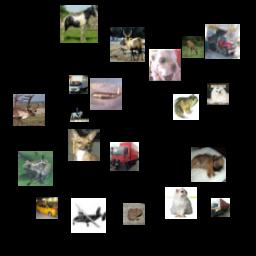airplane: (71, 198, 106, 233), (90, 78, 122, 110)
automobile: (36, 197, 58, 219)
cat: (165, 187, 197, 219)
deer: (110, 27, 145, 62), (13, 94, 45, 126), (182, 36, 204, 58)
dog: (191, 147, 226, 182), (68, 129, 100, 161), (149, 49, 181, 81), (207, 83, 229, 105)
frog: (18, 151, 53, 186), (173, 94, 199, 120), (123, 203, 145, 225)
truck: (205, 24, 240, 59), (110, 142, 139, 171), (69, 75, 88, 94), (211, 198, 230, 217)
